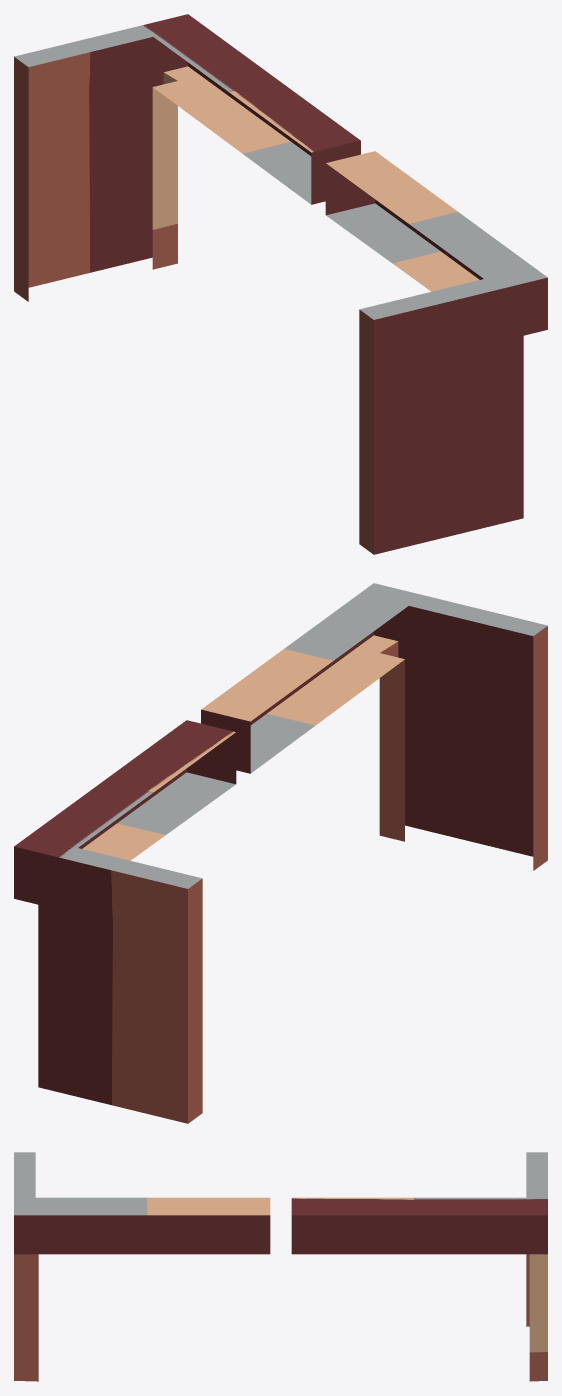
The model's file is Poutres.fbx.
The picture shows the model from 3 angles, top to bottom: view 1: azimuth 30°, elevation 25°; view 2: azimuth 150°, elevation 25°; view 3: azimuth 270°, elevation 25°; orthographic projection. The views are drawn at different scales.
Parts seen in each view (by area): view 1: B_Angle_Left_wall_Plain.005, B_Angle_Right_Wall_Plain.005; view 2: B_Angle_Right_Wall_Plain.005, B_Angle_Left_wall_Plain.005; view 3: B_Angle_Left_wall_Plain.005, B_Angle_Right_Wall_Plain.005.
Boxes of the visible parts, x1,y1,x2,y2 form: B_Angle_Left_wall_Plain.005: (325, 151, 547, 554); B_Angle_Right_Wall_Plain.005: (14, 14, 360, 301); B_Angle_Right_Wall_Plain.005: (14, 720, 236, 1123); B_Angle_Left_wall_Plain.005: (201, 583, 547, 870); B_Angle_Left_wall_Plain.005: (14, 1152, 270, 1381); B_Angle_Right_Wall_Plain.005: (291, 1152, 547, 1381).
Bounding box in the file's own units: 698 × 900 × 2500.
